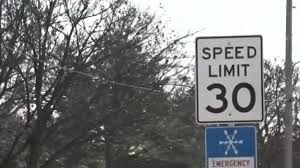speedLimit30: (194, 34, 267, 126)
